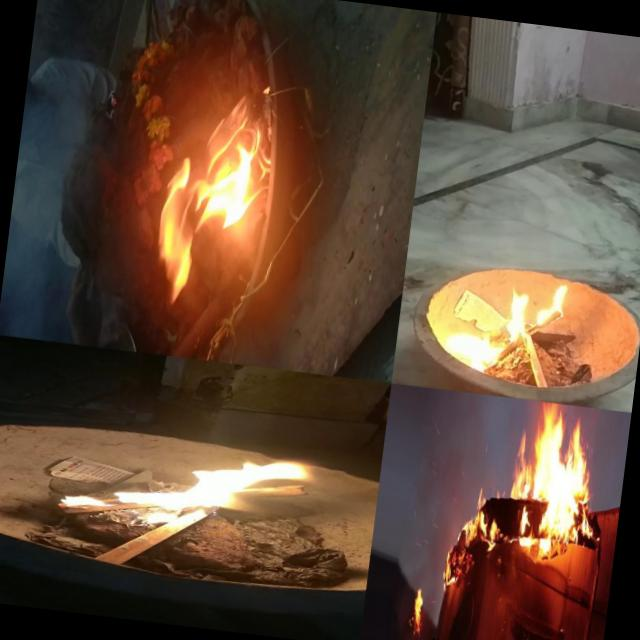fire: (58, 425, 318, 545), (420, 269, 584, 395), (501, 400, 605, 559), (20, 216, 139, 350), (438, 482, 506, 590), (406, 576, 430, 636)
